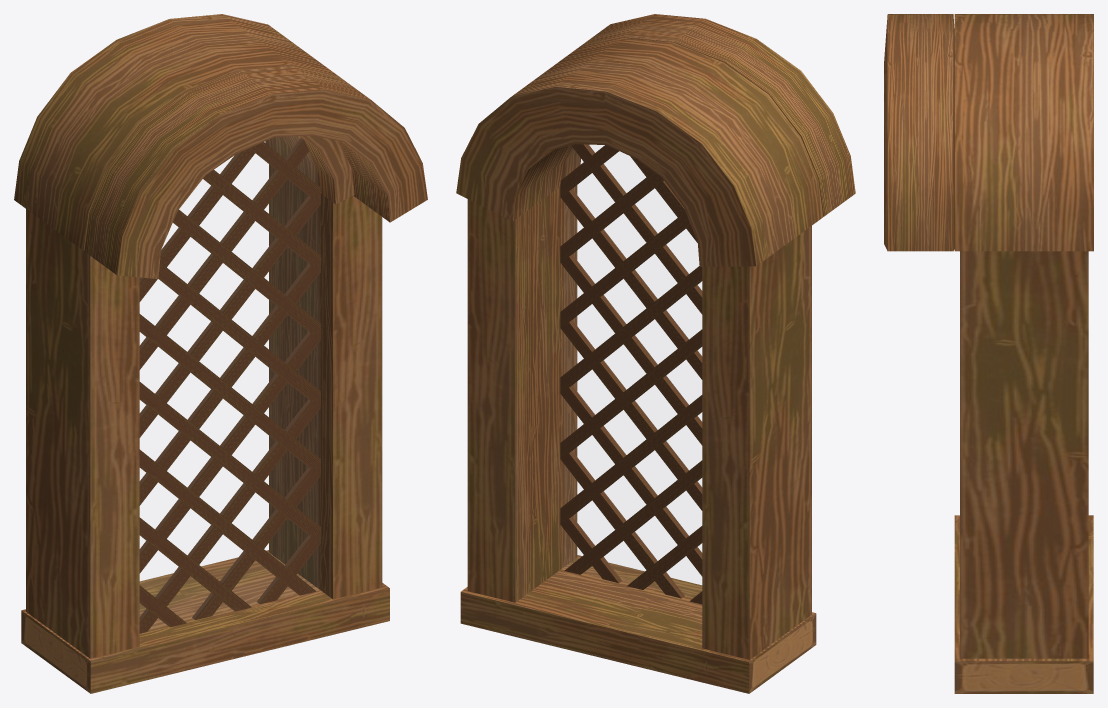
File: Window_Thin_Round2.gltf
3 views of the same model, side by side, from view 1: azimuth 30°, elevation 25°; view 2: azimuth 150°, elevation 25°; view 3: azimuth 270°, elevation 25° (orthographic). The views are drawn at different scales.
Parts seen in each view (by area): view 1: Window_Thin_Round2; view 2: Window_Thin_Round2; view 3: Window_Thin_Round2.
Part boxes in pixels (left/top/right/bottom): Window_Thin_Round2: left=14, top=14, right=427, bottom=693; Window_Thin_Round2: left=456, top=14, right=855, bottom=693; Window_Thin_Round2: left=884, top=14, right=1093, bottom=693.
Size of the model in its own units: 0.8876 by 1.6 by 0.5189.
Materials: 3 (2 with a texture image).
